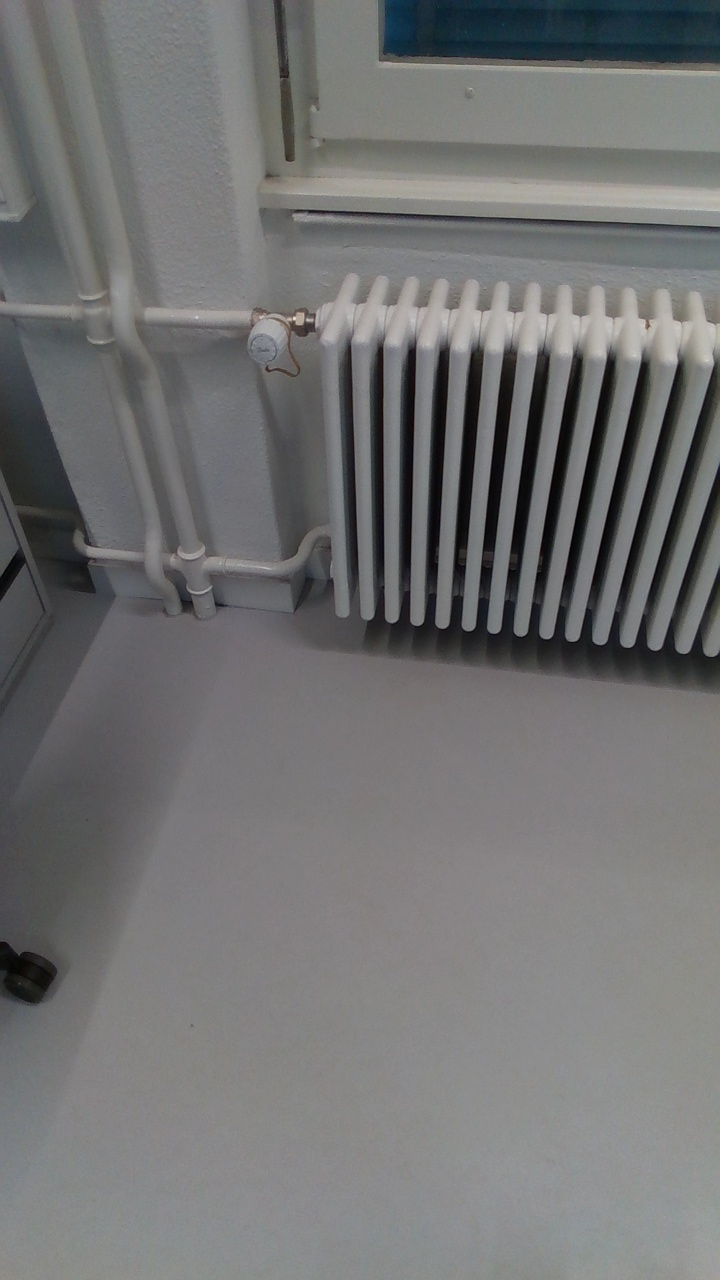Knob_Radiator: (235, 306, 309, 374)
Radiator: (303, 264, 720, 670)
